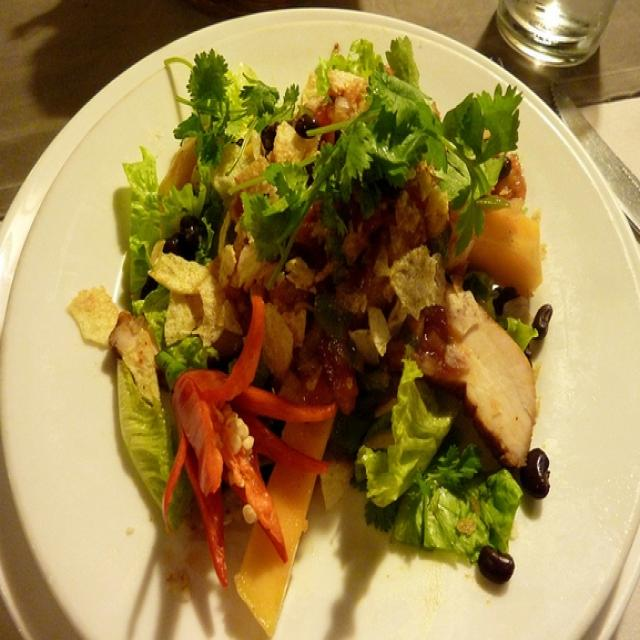鸡肉料理 含炸鸡: (48, 37, 609, 625)
